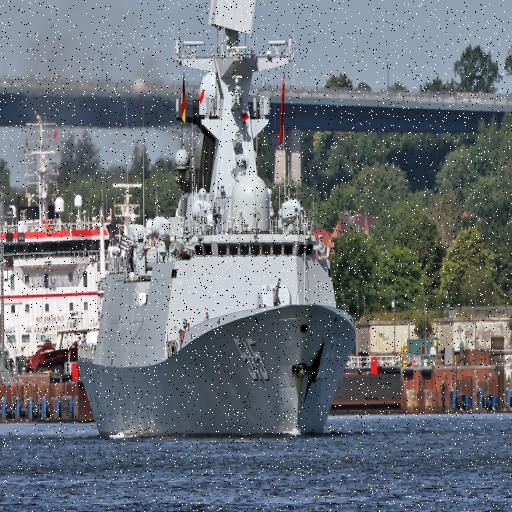Fragata: (75, 1, 361, 446)
